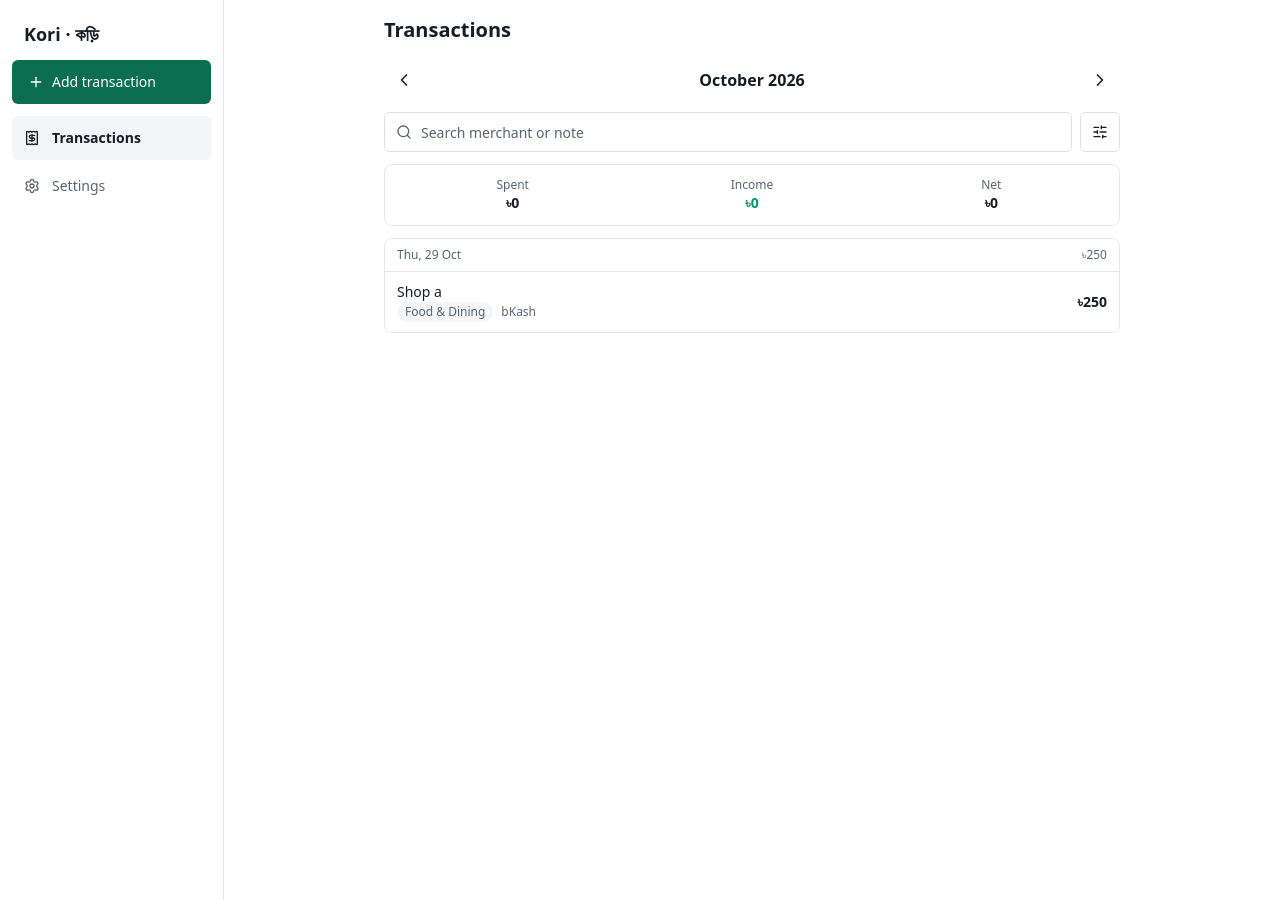
transaction form › edits the amount of a row
Click the text "Shop a" at (419, 292), box [397,282,442,301]
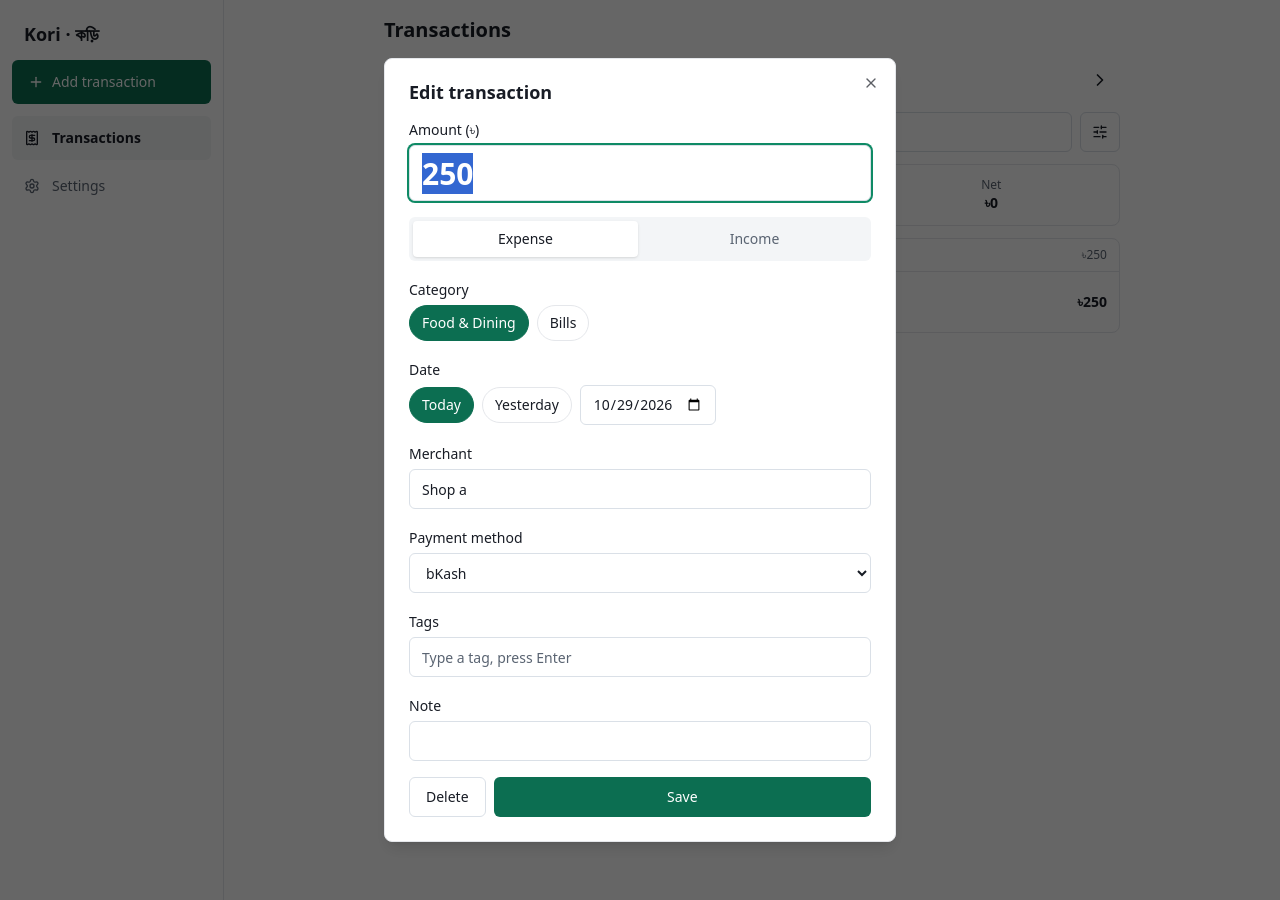
Expected: the field labelled "Amount (৳)" holds "250"
Replace the text in the field labelled "Amount (৳)" with "300" at (640, 173), box [409,145,871,201]
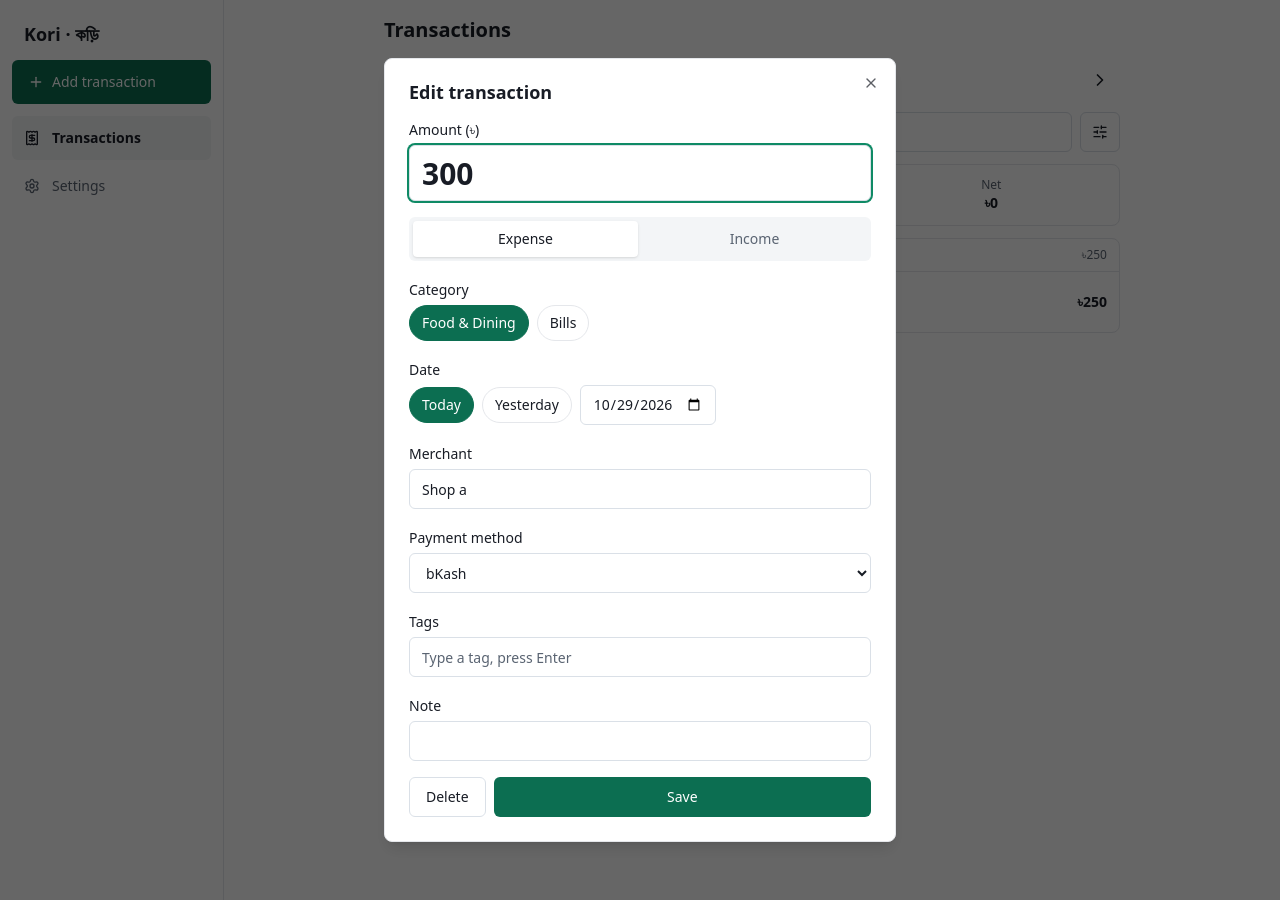
Click the button "Save" at (682, 797), box [494,777,871,817]
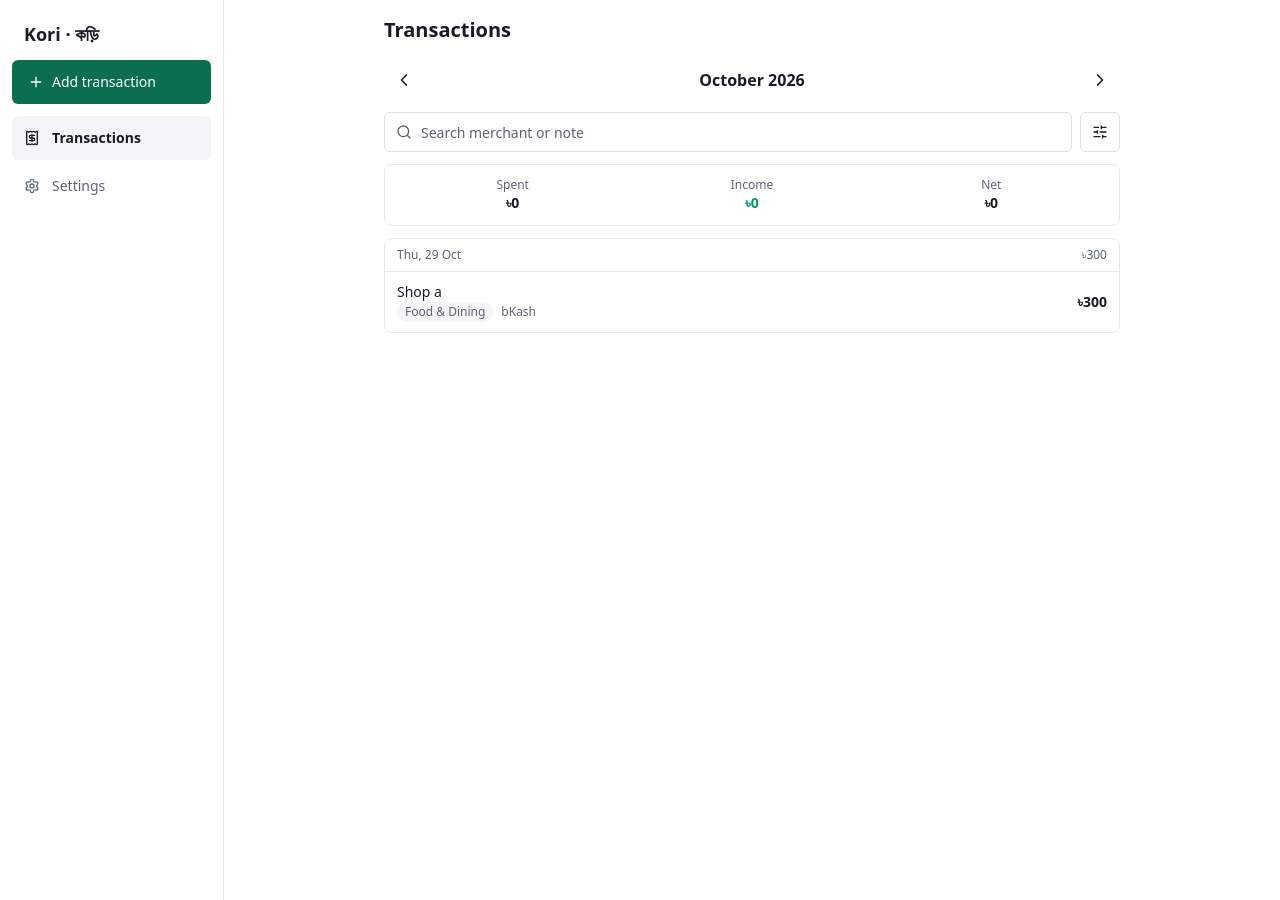
Expected: the dialog is gone
Expected: the text "৳300" in the row of "Thu, 29 Oct" is shown, [1082,246,1107,263]
